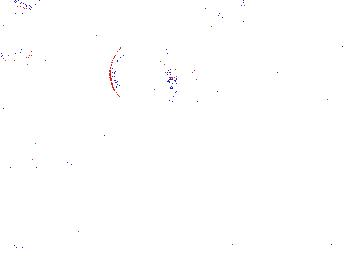moon jellyfish: (270, 1, 346, 108), (16, 1, 130, 56), (123, 3, 228, 50), (191, 16, 245, 97), (108, 37, 167, 105), (1, 2, 48, 63)
